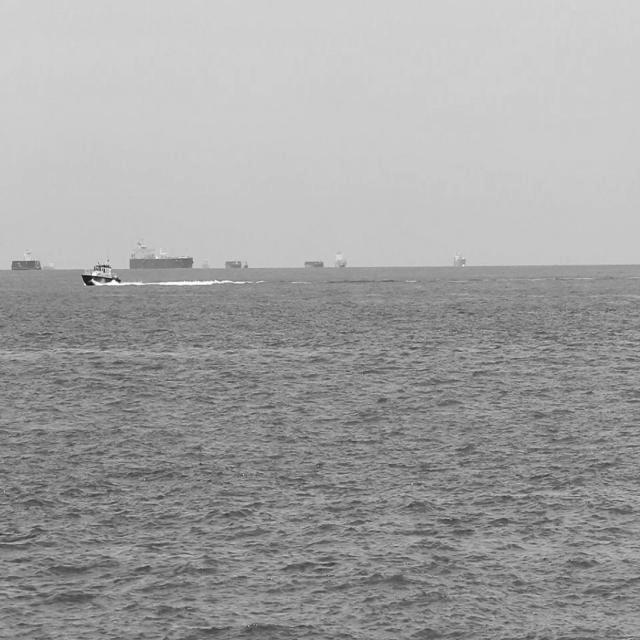ship: (128, 233, 193, 268), (82, 258, 124, 288), (11, 246, 44, 270), (452, 246, 467, 268), (334, 248, 348, 268), (304, 256, 326, 268), (42, 258, 59, 272), (202, 253, 214, 270), (225, 258, 244, 268), (242, 256, 250, 268)
